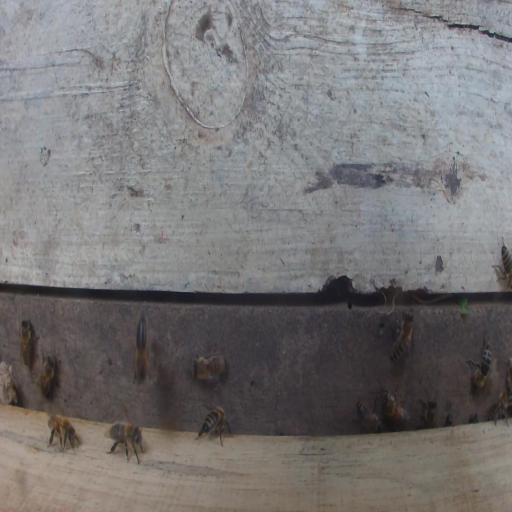nonpollenbee: (463, 330, 493, 390), (380, 381, 411, 435), (132, 306, 152, 386), (192, 342, 228, 385), (107, 418, 145, 458), (389, 307, 414, 365), (351, 395, 385, 433), (491, 233, 511, 292), (45, 413, 76, 449), (487, 384, 511, 430), (16, 316, 35, 373), (200, 406, 228, 439), (39, 353, 56, 402), (418, 393, 438, 432)
